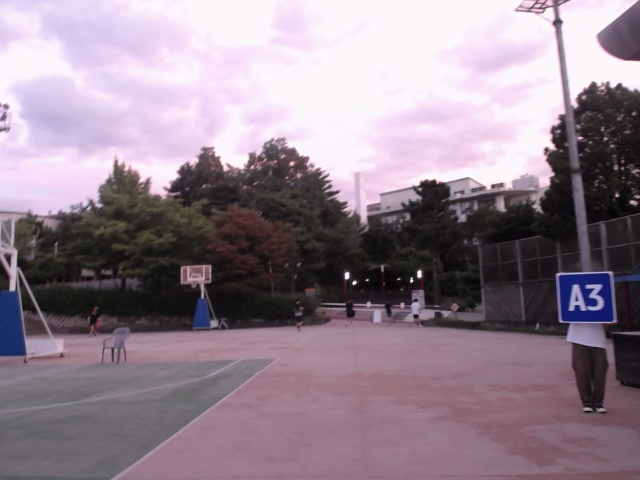delivery_a3: (557, 273, 617, 325)
